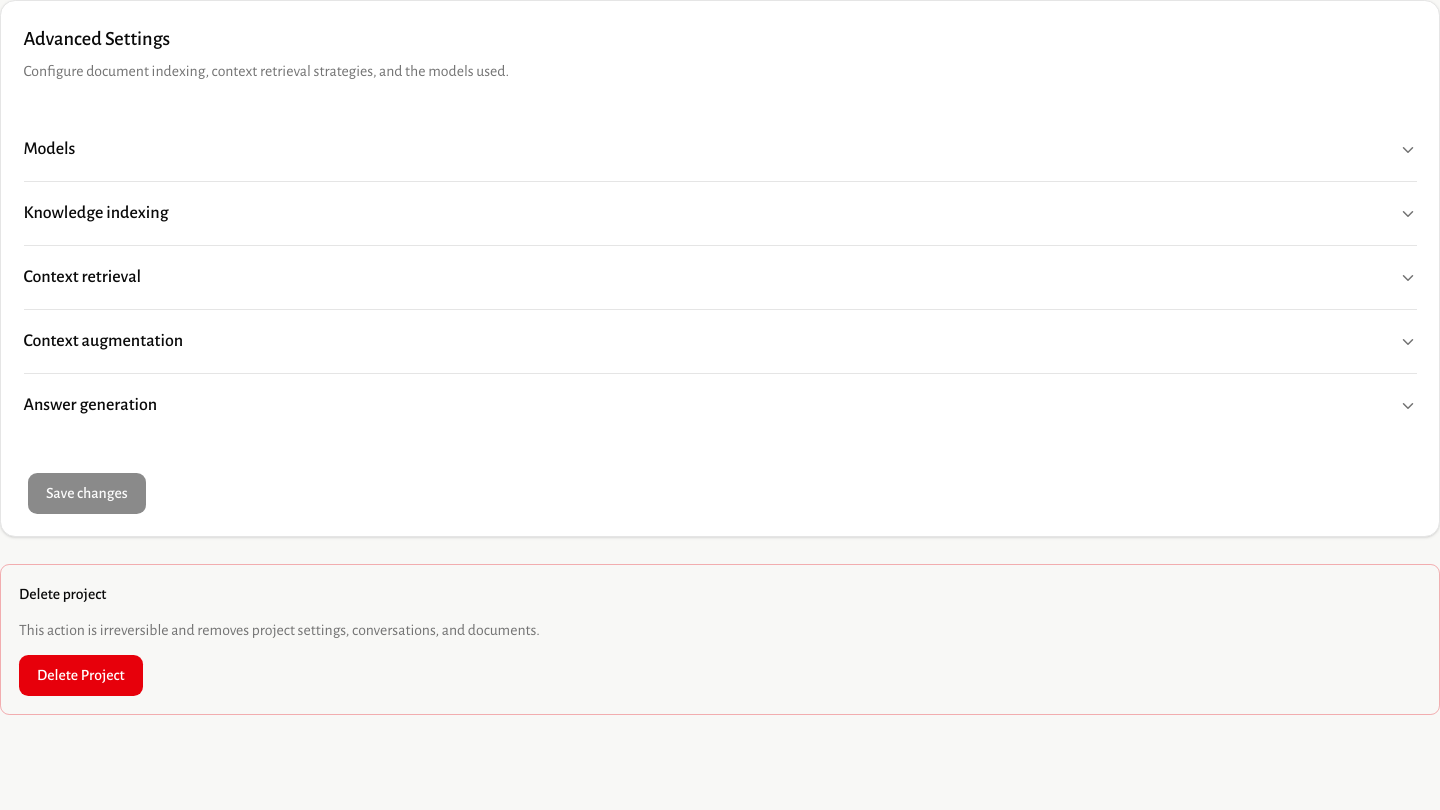
Scenario: ProjectAdvancedPanel – field values inheritance › Models — Embedding backend inherited label › shows Set by user (OpenAI) when user has embedding_backend=openai and project has none
The image size is (1440, 810).
Click the button "Models".
click(49, 149)  # box [24,118,1416,181]
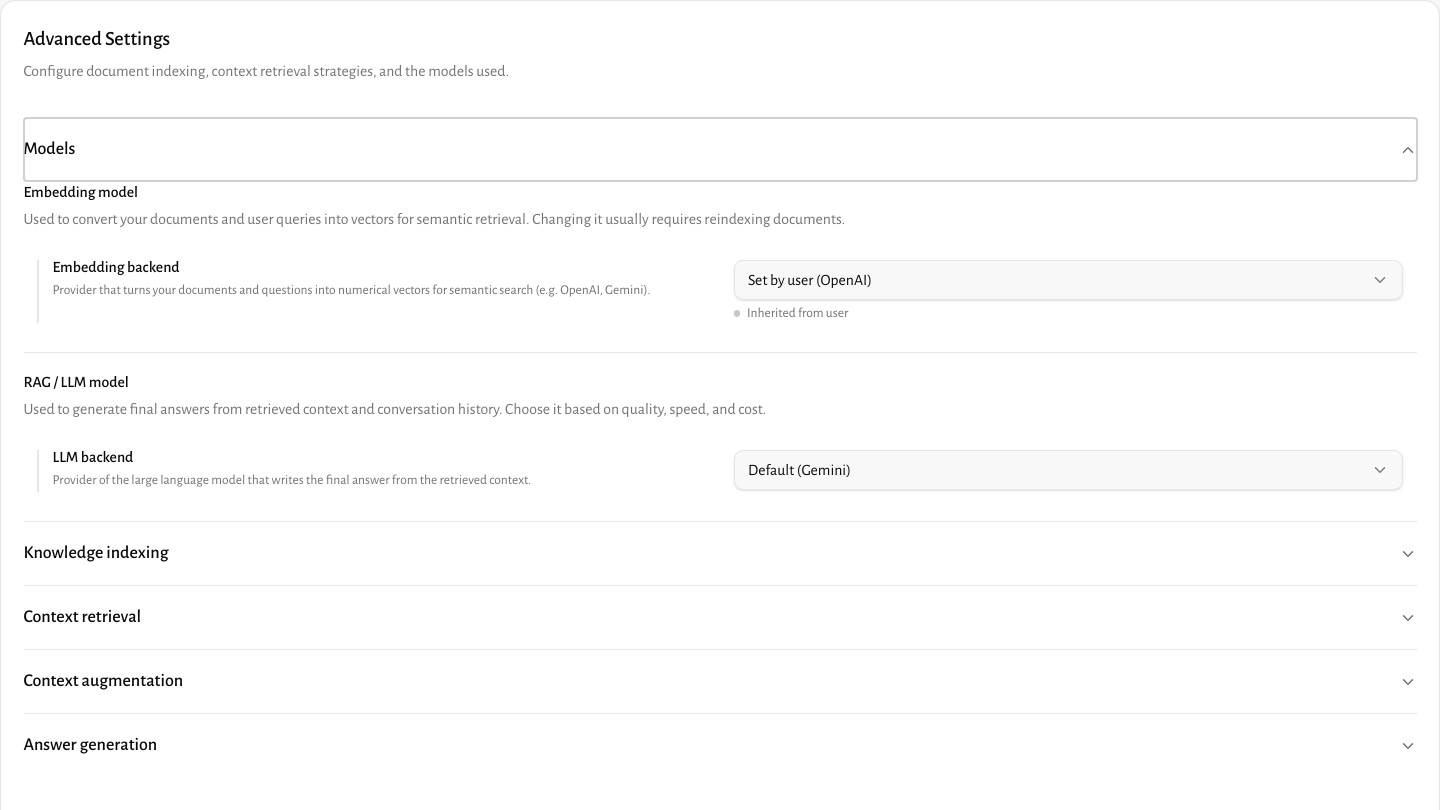
Now the text "Set by user (OpenAI)" is shown, box [748,269,872,291]
